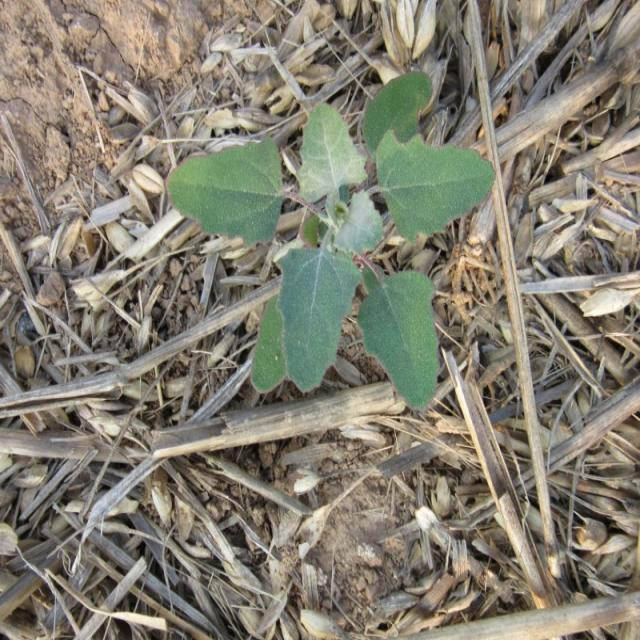ca: (166, 67, 495, 411)
